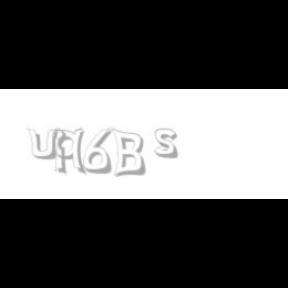6: (83, 128, 112, 176)
B: (111, 128, 145, 178)
i: (54, 128, 70, 176)
q: (52, 128, 88, 176)
s: (154, 128, 182, 160)
u: (26, 128, 62, 160)
